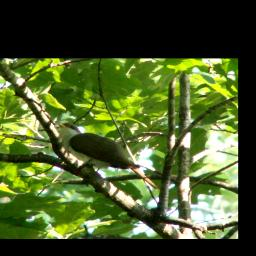Cuckoo: (52, 120, 162, 190)
